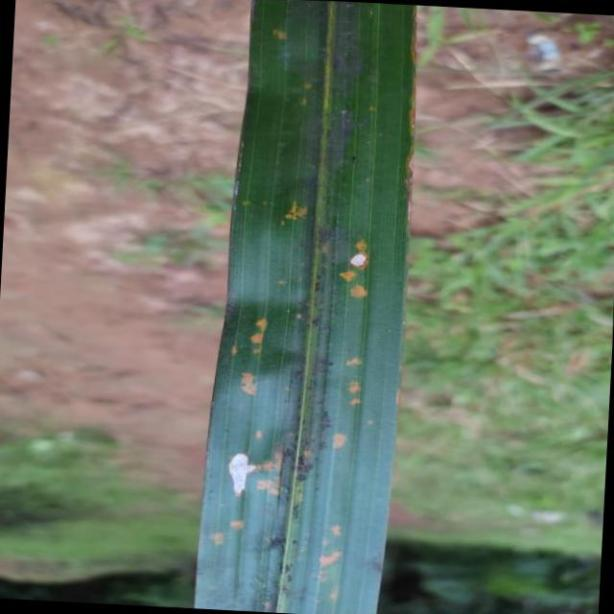Kalium: (197, 0, 416, 614)
